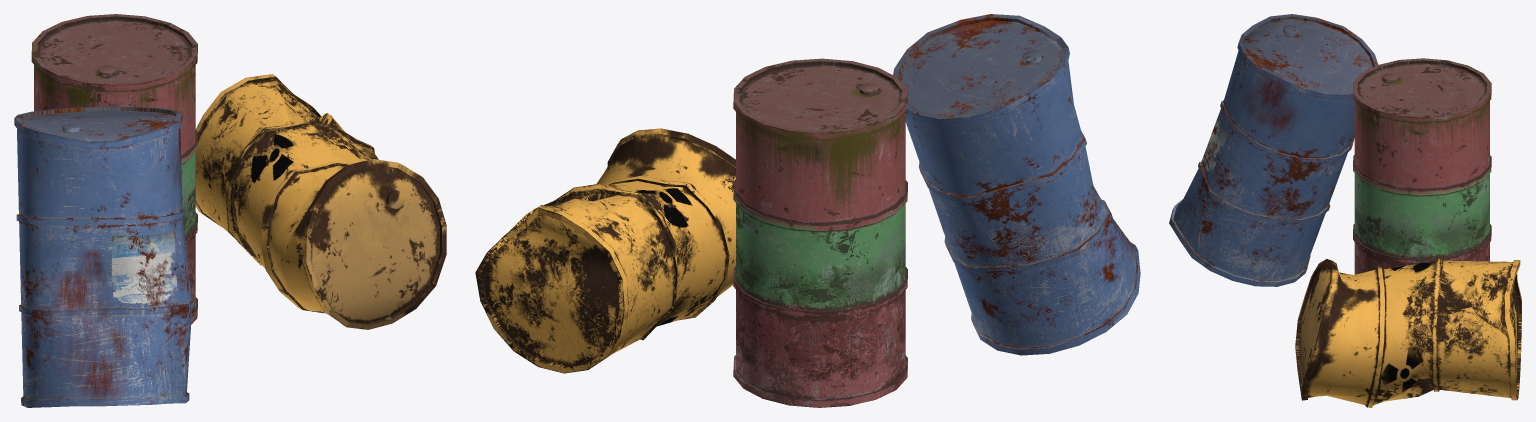
Rendered from Barrels.fbx.
3 views of the same model, side by side, from view 1: azimuth 30°, elevation 25°; view 2: azimuth 150°, elevation 25°; view 3: azimuth 270°, elevation 25° (orthographic). The views are drawn at different scales.
Parts seen in each view (by area): view 1: Object_4, Object_3, Object_2; view 2: Object_2, Object_4, Object_3; view 3: Object_4, Object_3, Object_2.
Part boxes in pixels (left/top/right/bottom): Object_4: left=14, top=106, right=194, bottom=407; Object_3: left=195, top=74, right=446, bottom=329; Object_2: left=31, top=14, right=197, bottom=324; Object_2: left=733, top=58, right=907, bottom=407; Object_4: left=893, top=14, right=1140, bottom=355; Object_3: left=475, top=128, right=735, bottom=373; Object_4: left=1169, top=14, right=1378, bottom=286; Object_3: left=1295, top=258, right=1521, bottom=407; Object_2: left=1353, top=58, right=1491, bottom=274.
Size of the model in its own units: 1571 by 966 by 1244.
3 materials, 3 textured.
